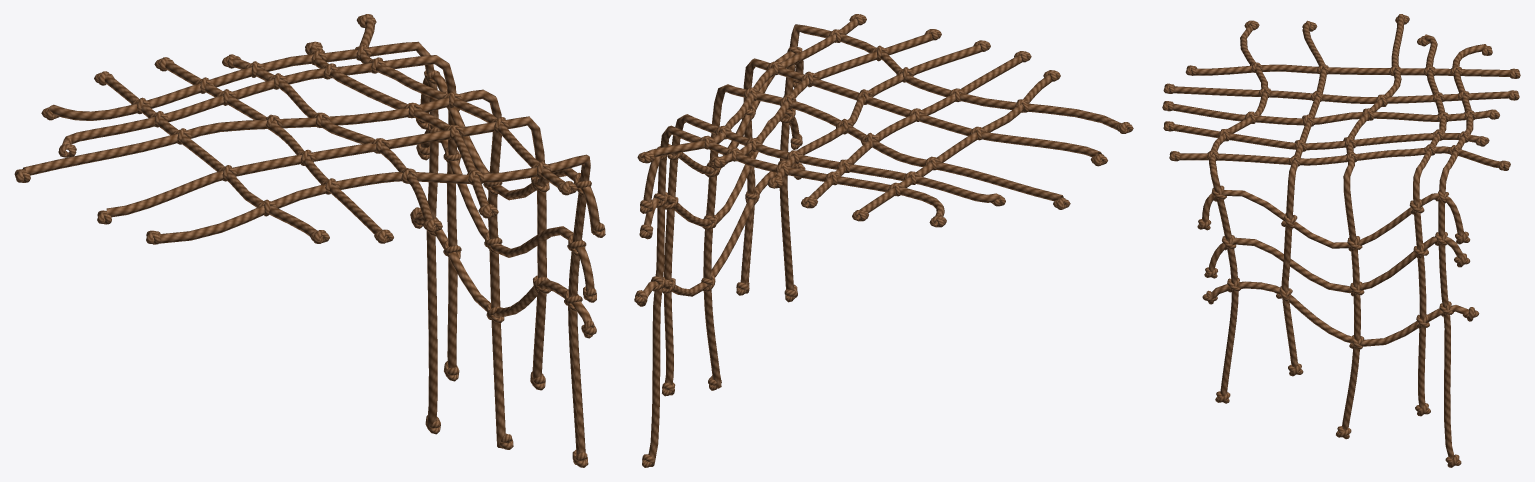
The model's file is RopeNet_01.fbx.
3 renders of one model, left to right at view 1: azimuth 30°, elevation 25°; view 2: azimuth 150°, elevation 25°; view 3: azimuth 270°, elevation 25°, orthographic. The views are drawn at different scales.
Visible parts, largest first — view 1: RopeNet_01; view 2: RopeNet_01; view 3: RopeNet_01.
Boxes of the visible parts, left/top/right/bottom form: RopeNet_01: left=14, top=14, right=605, bottom=467; RopeNet_01: left=634, top=14, right=1133, bottom=467; RopeNet_01: left=1162, top=14, right=1520, bottom=467.
Size of the model in its own units: 189 by 159 by 173.
